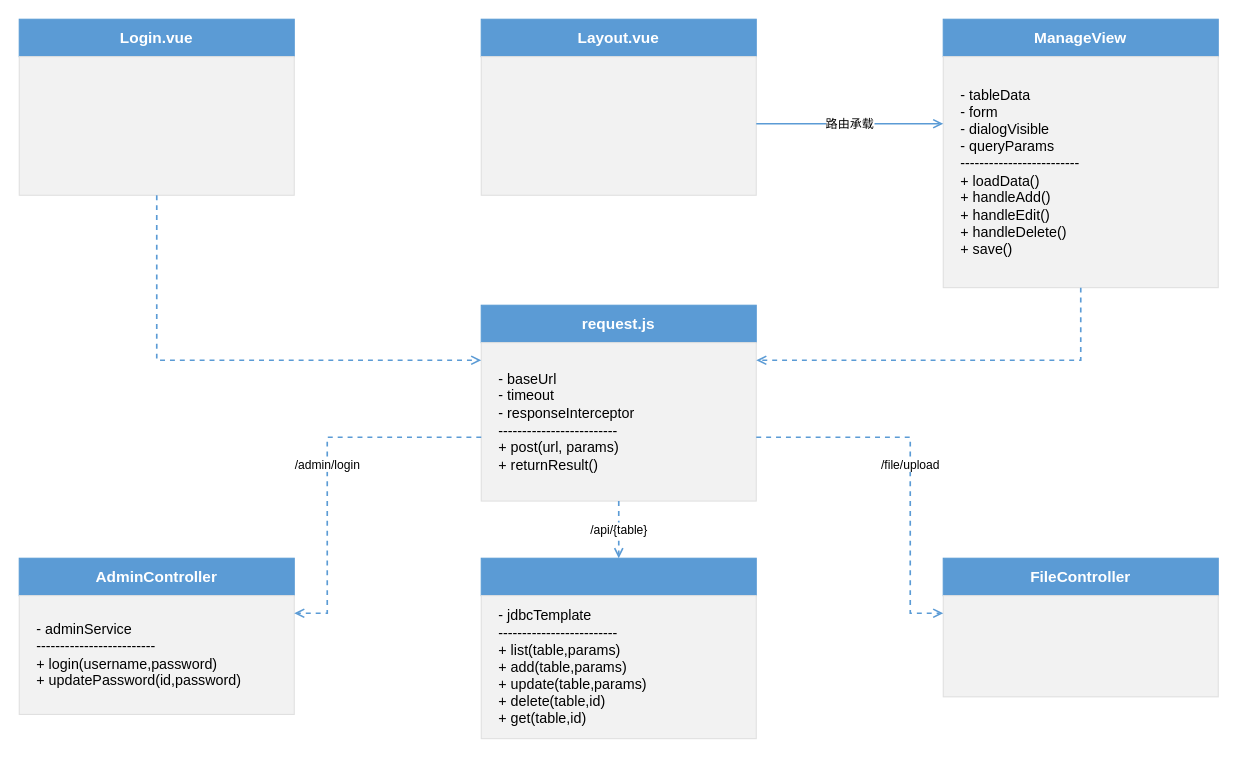
This 1238x758 diagram has some shape labels left out. Here are the shapes that lost their labels. From the top down, the centre of each, then its label:
the point at 156,125: - form - router ------------------------- + login()
the point at 618,125: - menuItems - routerView ------------------------- + logout()
the point at 618,576: GenericController
the point at 1080,646: - uploadDir ------------------------- + upload(file)
